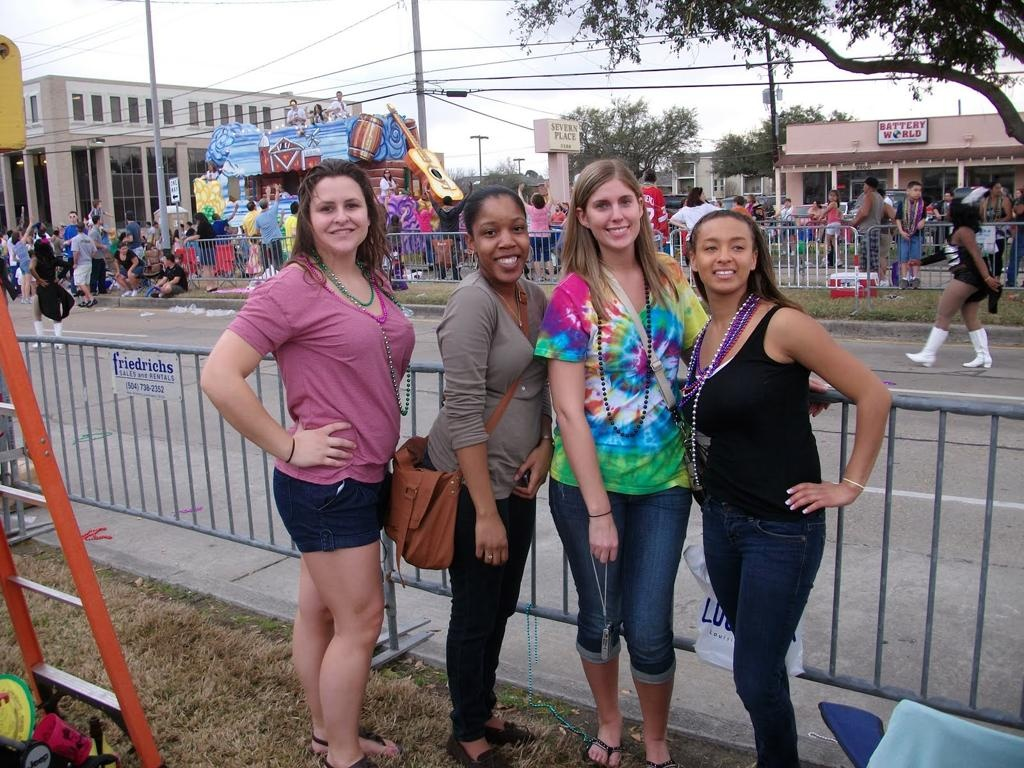human_face: (472, 198, 528, 282), (308, 178, 370, 252), (694, 218, 754, 288), (588, 182, 640, 248)
